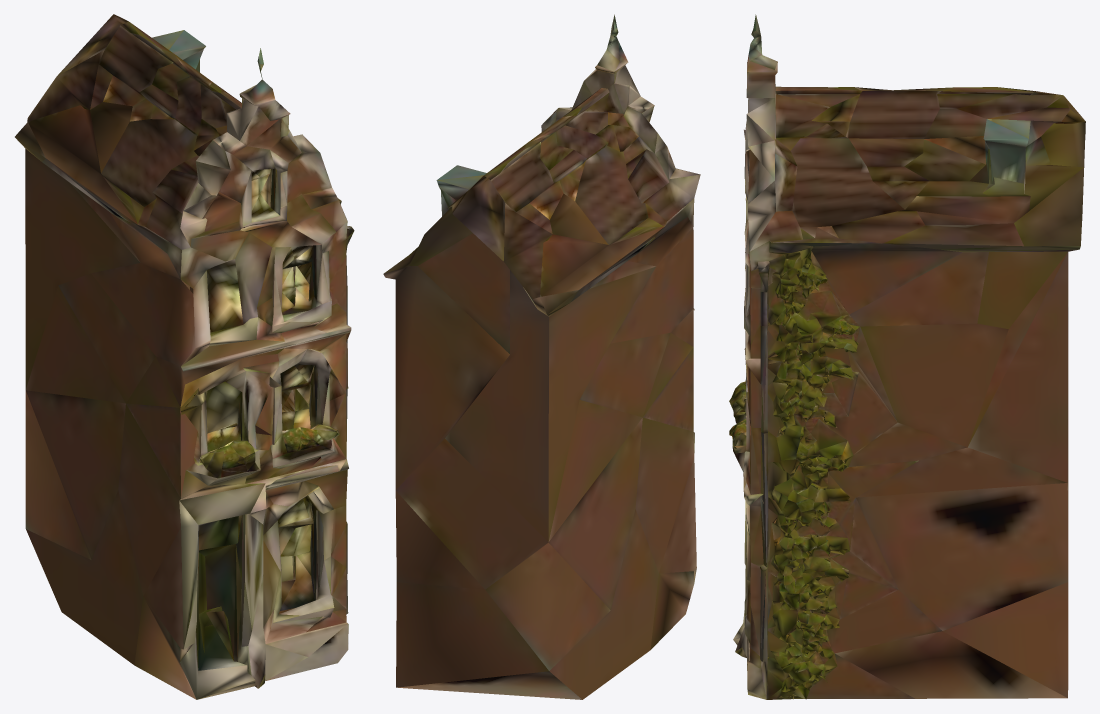
Rendered from getkong-haus14.glb.
The picture shows the model from 3 angles, left to right: view 1: azimuth 30°, elevation 25°; view 2: azimuth 150°, elevation 25°; view 3: azimuth 270°, elevation 25°; orthographic projection. The views are drawn at different scales.
Visible parts, largest first — view 1: output_unwrapped; view 2: output_unwrapped; view 3: output_unwrapped.
Part boxes in pixels (left/top/right/bottom): output_unwrapped: left=15, top=14, right=354, bottom=699; output_unwrapped: left=383, top=14, right=700, bottom=699; output_unwrapped: left=729, top=14, right=1085, bottom=699.
Size of the model in its own units: 0.5828 by 1.9 by 0.9526.
1 material, 1 textured.
